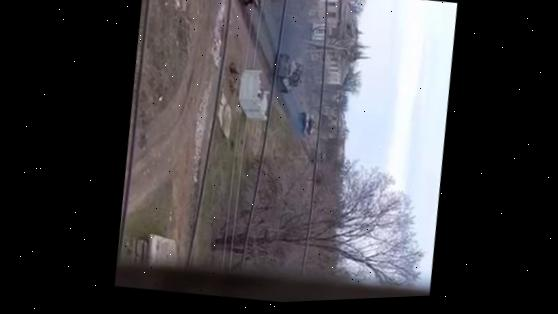tank: (270, 49, 307, 95), (292, 107, 319, 136), (220, 0, 279, 10), (308, 146, 328, 167)
